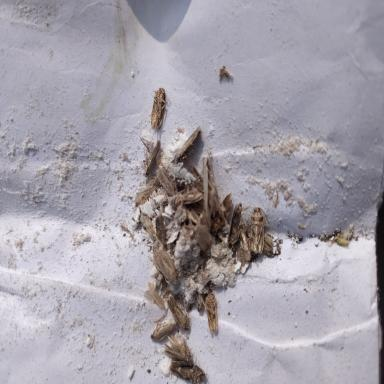pbw: (150, 240, 180, 286), (228, 201, 250, 251), (176, 124, 202, 164), (150, 86, 170, 138), (168, 359, 207, 384), (139, 136, 162, 178), (210, 192, 232, 234), (249, 206, 267, 255), (170, 182, 203, 207), (163, 334, 194, 360), (167, 296, 190, 331), (155, 167, 177, 196), (194, 264, 207, 312), (204, 291, 218, 335), (192, 222, 214, 250), (150, 320, 177, 341), (236, 228, 251, 265), (188, 160, 204, 192), (262, 231, 281, 257), (140, 209, 156, 238), (134, 185, 155, 207), (155, 213, 167, 250)
